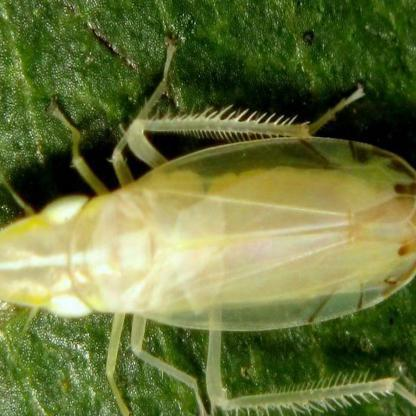green-leafhopper: (0, 138, 410, 348)
